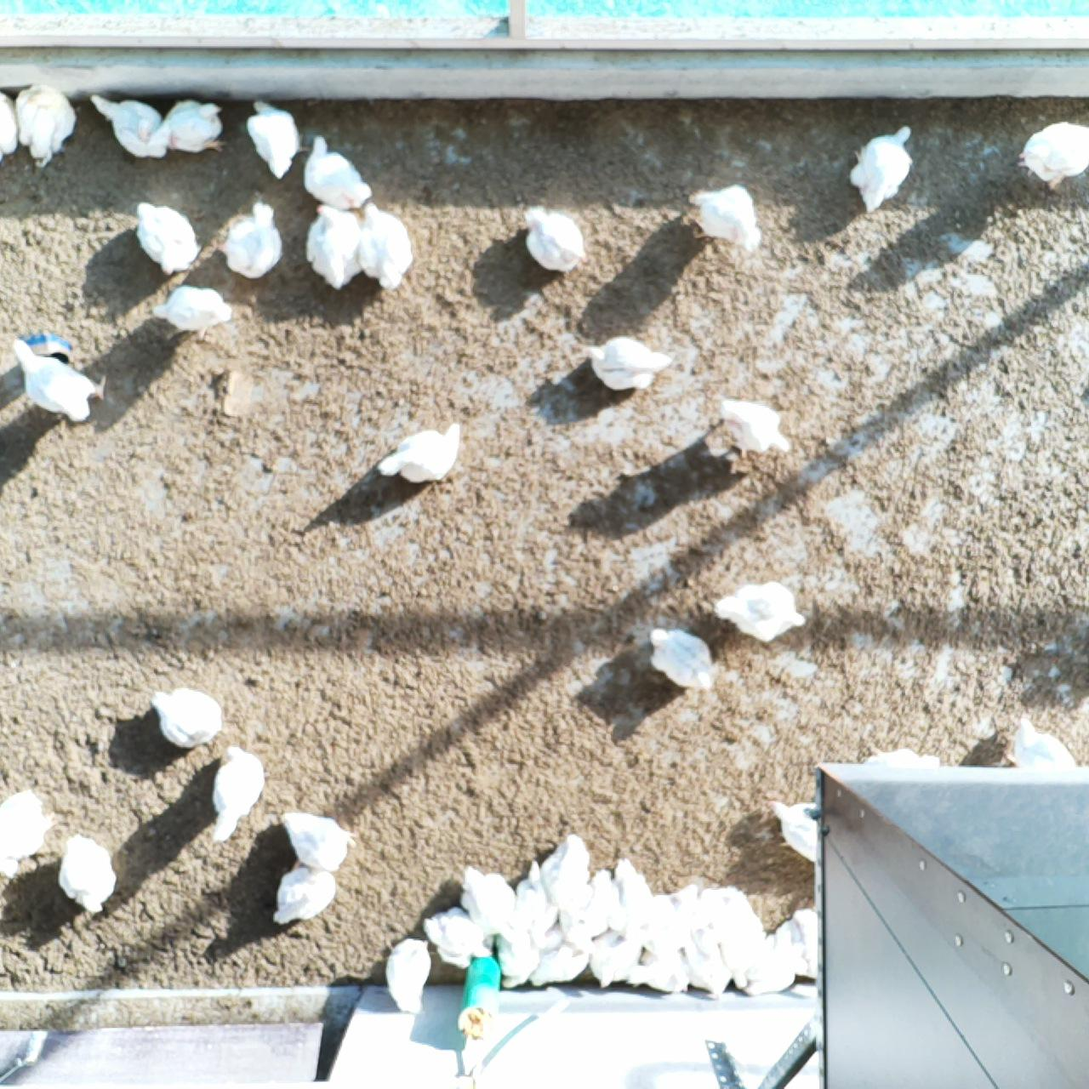chicken: (8, 335, 114, 427), (683, 180, 767, 262), (846, 122, 919, 214), (711, 577, 808, 643), (297, 131, 376, 212), (374, 418, 464, 489), (209, 744, 268, 852), (578, 332, 675, 395), (212, 199, 285, 282), (275, 807, 360, 877), (13, 79, 79, 169), (353, 202, 416, 294), (133, 197, 204, 278), (56, 830, 121, 918), (88, 90, 168, 161), (302, 203, 367, 289), (0, 786, 59, 880), (714, 394, 795, 462), (243, 96, 306, 181), (644, 625, 721, 694), (520, 199, 589, 276), (151, 282, 236, 342), (1018, 119, 1089, 190), (150, 95, 232, 155), (376, 931, 433, 1016), (269, 856, 337, 927), (148, 686, 227, 747), (717, 889, 764, 988), (999, 714, 1081, 770), (422, 906, 496, 968), (458, 861, 515, 935), (761, 794, 821, 864), (541, 832, 596, 906), (742, 928, 797, 998), (570, 869, 623, 938), (684, 931, 731, 1001), (517, 861, 560, 935), (611, 856, 651, 932), (592, 929, 640, 988), (782, 906, 820, 979), (527, 941, 585, 988), (494, 931, 538, 989), (626, 949, 688, 990), (864, 739, 941, 770), (636, 894, 679, 948), (680, 885, 720, 932)
